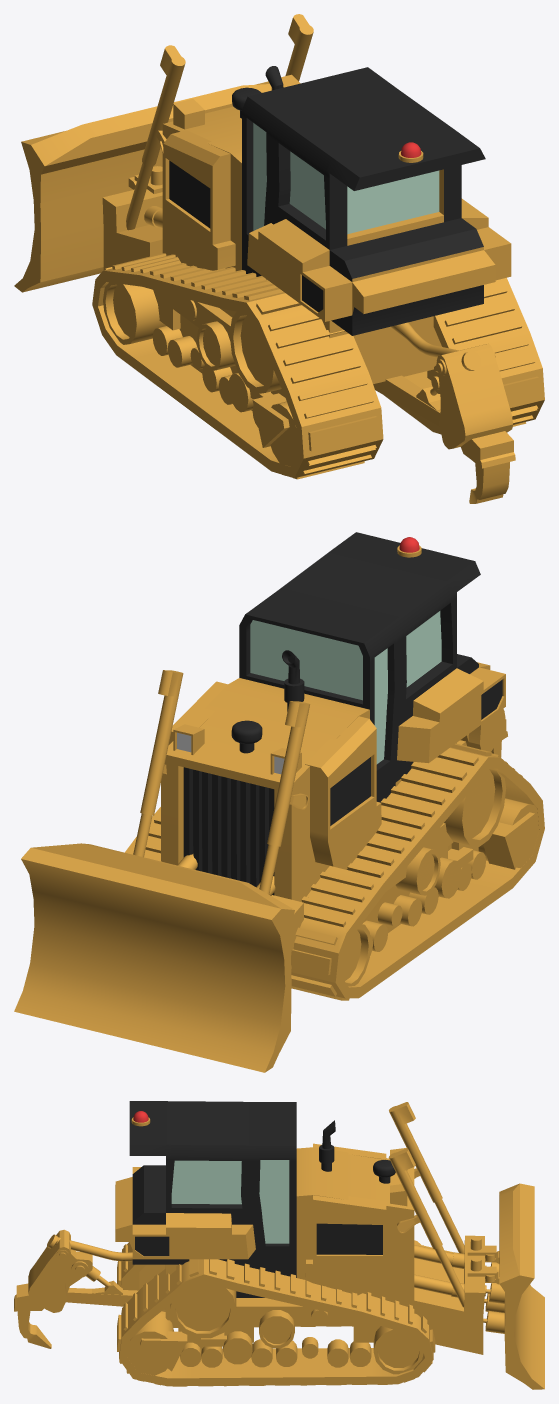
The model's file is bulldozer.fbx.
3 views of the same model, one above another, from view 1: azimuth 30°, elevation 25°; view 2: azimuth 150°, elevation 25°; view 3: azimuth 270°, elevation 25° (orthographic). The views are drawn at different scales.
Visible parts, largest first — view 1: Cube.076; view 2: Cube.076; view 3: Cube.076.
Boxes of the visible parts, x1,y1,x2,y2 form: Cube.076: (14,14,544,503); Cube.076: (14,532,544,1072); Cube.076: (14,1101,544,1389).
Bounding box in the file's own units: 480 × 566 × 1161.
